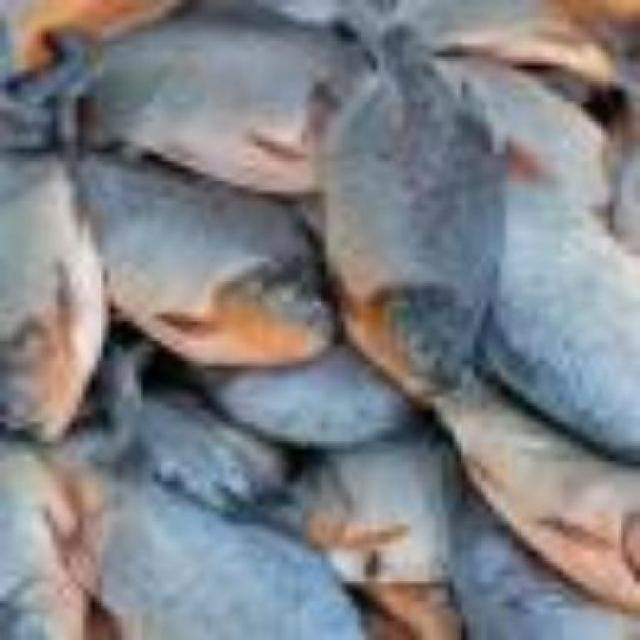ikan-pacu: (314, 0, 504, 394), (70, 148, 330, 366), (38, 7, 331, 175), (83, 468, 366, 637), (0, 147, 105, 438)
